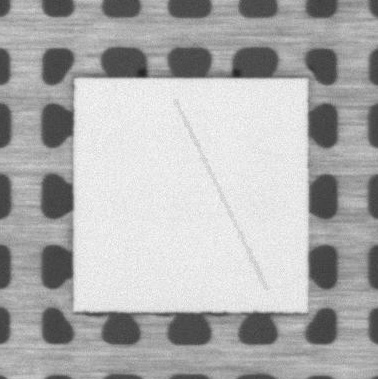DIE_CRACK: (176, 101, 266, 290)
